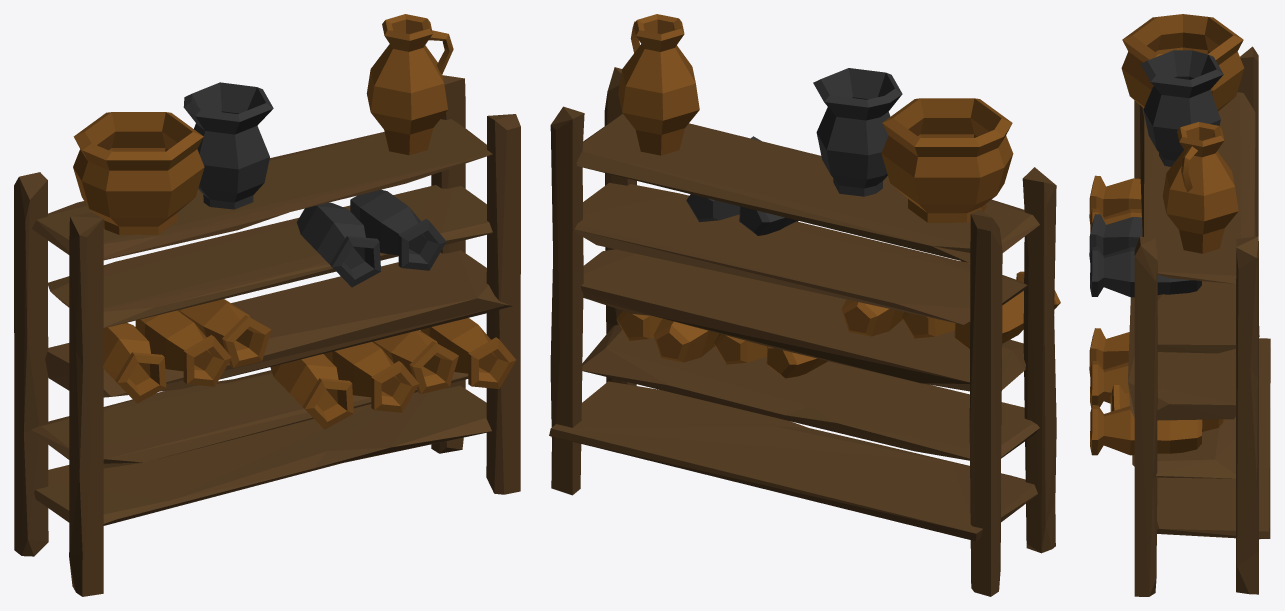
The model's file is SM_shelf_pottery.fbx.
3 views of the same model, side by side, from view 1: azimuth 30°, elevation 25°; view 2: azimuth 150°, elevation 25°; view 3: azimuth 270°, elevation 25° (orthographic). The views are drawn at different scales.
Parts seen in each view (by area): view 1: Object32373; view 2: Object32373; view 3: Object32373.
Part boxes in pixels (x1,y1,x2,y2): Object32373: [14, 14, 520, 596]; Object32373: [549, 14, 1060, 596]; Object32373: [1089, 14, 1270, 596].
Bounding box in the file's own units: 103 × 103 × 39.28.
